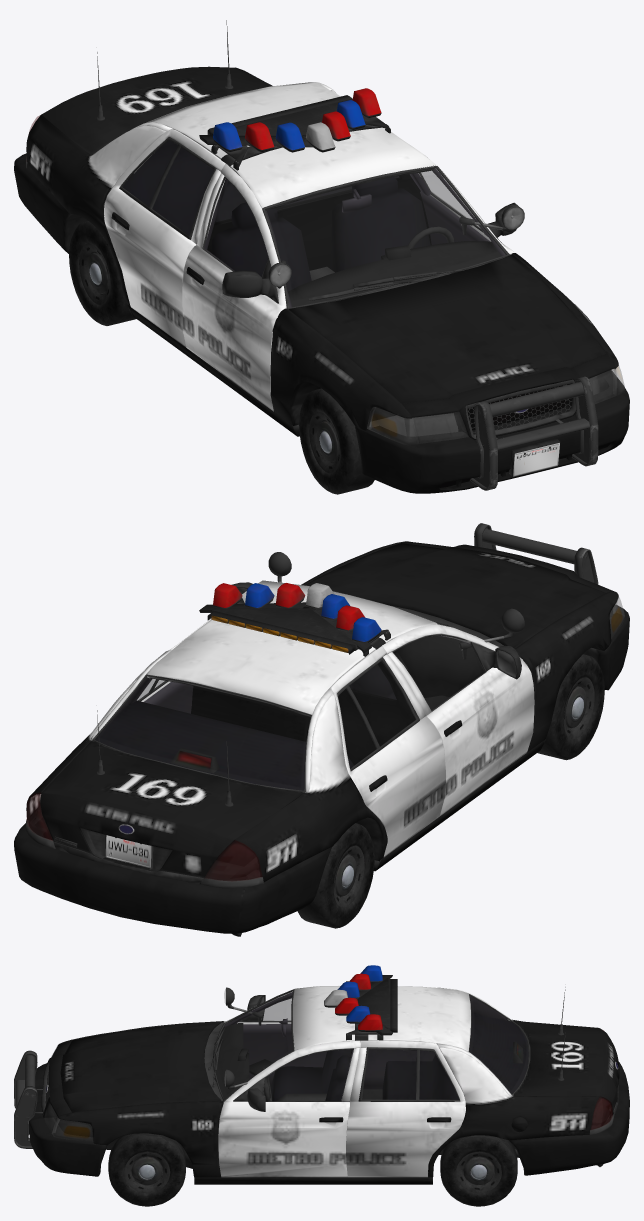
Rendered from crownvic_police.glb.
The picture shows the model from 3 angles, top to bottom: view 1: azimuth 30°, elevation 25°; view 2: azimuth 150°, elevation 25°; view 3: azimuth 270°, elevation 25°; orthographic projection. The views are drawn at different scales.
Visible parts, largest first — view 1: glass_low_main_frame_0, glass_low_glass_0, glass_low_interior_bottom_0, glass_low_wheels_and_parts_0, fs_vector_bulbs_base_low_fs_vector_0, glass_low_interior2_0, glass_low_plate_0; view 2: glass_low_main_frame_0, glass_low_glass_0, glass_low_interior_bottom_0, glass_low_wheels_and_parts_0, fs_vector_bulbs_base_low_fs_vector_0, glass_low_interior2_0, glass_low_plate_0; view 3: glass_low_main_frame_0, glass_low_glass_0, glass_low_interior_bottom_0, glass_low_wheels_and_parts_0, glass_low_interior2_0, fs_vector_bulbs_base_low_fs_vector_0.
Part boxes in pixels (box(x1,y1,x2,y2)): glass_low_main_frame_0: box(14, 66, 629, 493); glass_low_glass_0: box(29, 115, 624, 444); glass_low_interior_bottom_0: box(76, 140, 505, 436); glass_low_wheels_and_parts_0: box(69, 20, 598, 494); fs_vector_bulbs_base_low_fs_vector_0: box(199, 88, 390, 170); glass_low_interior2_0: box(122, 151, 505, 307); glass_low_plate_0: box(509, 438, 560, 477); glass_low_main_frame_0: box(14, 541, 629, 933); glass_low_glass_0: box(26, 597, 624, 881); glass_low_interior_bottom_0: box(34, 636, 484, 936); glass_low_wheels_and_parts_0: box(54, 523, 604, 928); fs_vector_bulbs_base_low_fs_vector_0: box(199, 583, 390, 656); glass_low_interior2_0: box(107, 635, 483, 725); glass_low_plate_0: box(105, 835, 151, 867); glass_low_main_frame_0: box(29, 985, 629, 1184); glass_low_glass_0: box(44, 989, 612, 1141); glass_low_interior_bottom_0: box(106, 1013, 611, 1168); glass_low_wheels_and_parts_0: box(14, 987, 618, 1206); glass_low_interior2_0: box(224, 992, 507, 1165); fs_vector_bulbs_base_low_fs_vector_0: box(324, 965, 397, 1040).
Bounding box in the file's own units: 2.64 × 2.03 × 6.62.
Materials: 7 (7 with a texture image).
